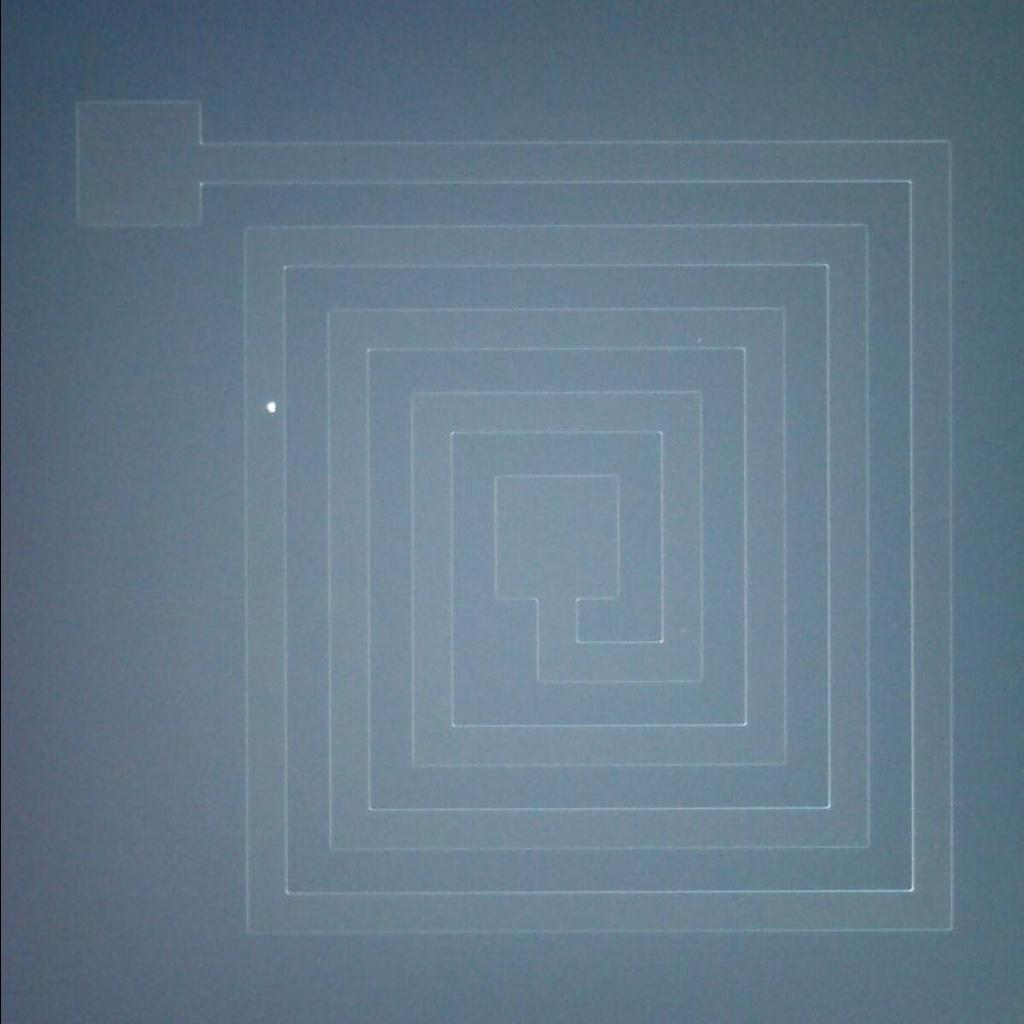spot: (258, 393, 281, 420)
